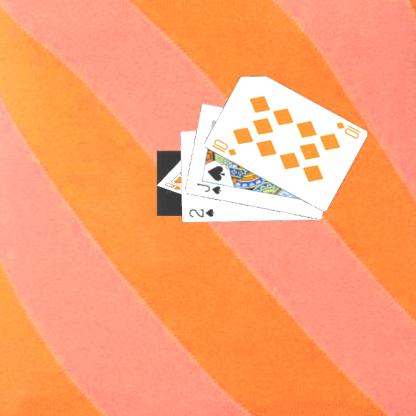10D: (208, 136, 238, 157), (333, 119, 362, 140)
2S: (186, 206, 216, 219)
JS: (194, 180, 223, 196)
